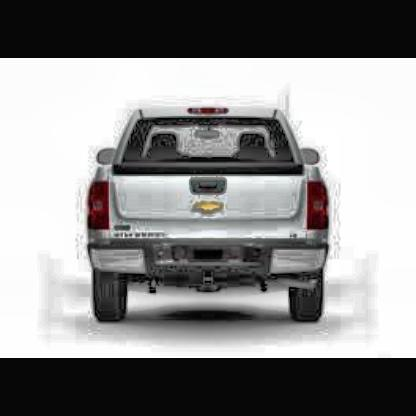Chevrolet Silverado 2500HD Regular Cab 2012: (90, 106, 335, 329)
